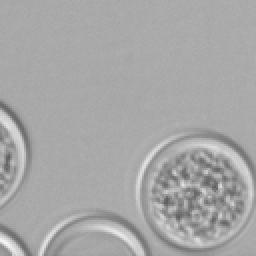picoshell: (138, 134, 250, 244), (38, 210, 148, 254), (0, 104, 28, 206), (0, 224, 30, 254)
